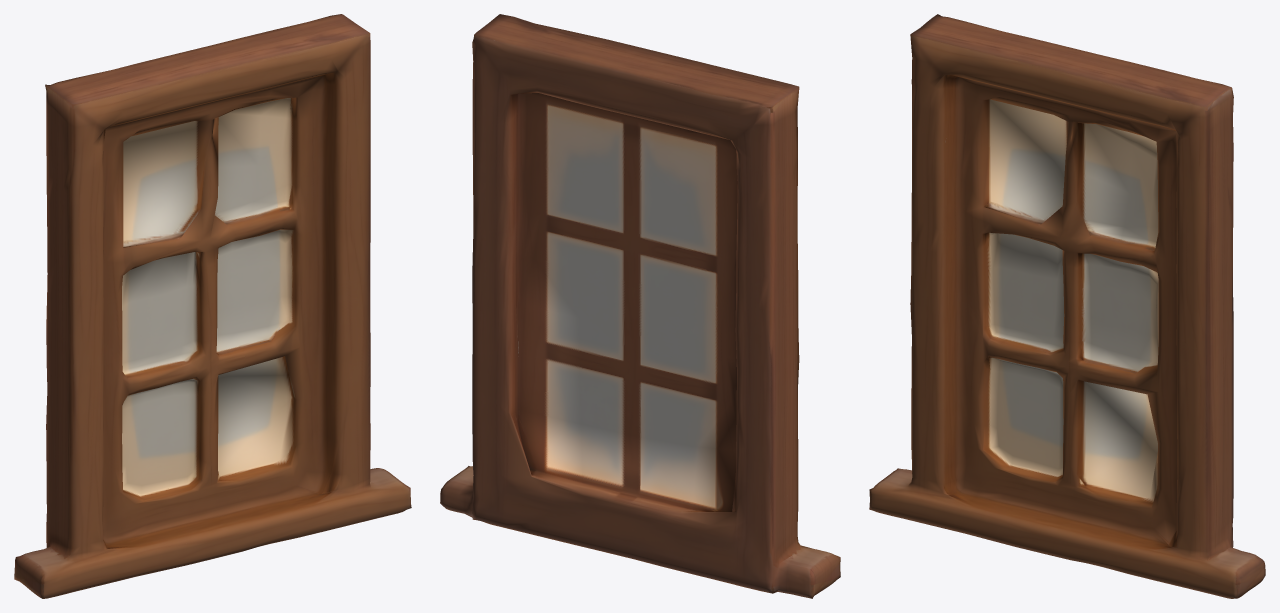
Rendered from Window.fbx.
The picture shows the model from 3 angles, left to right: view 1: azimuth 30°, elevation 25°; view 2: azimuth 150°, elevation 25°; view 3: azimuth 330°, elevation 25°; orthographic projection.
Parts seen in each view (by area): view 1: input; view 2: input; view 3: input.
Boxes of the visible parts, left/top/right/bottom form: input: left=14, top=14, right=411, bottom=598; input: left=440, top=14, right=840, bottom=598; input: left=869, top=14, right=1265, bottom=598.
Bounding box in the file's own units: 152 × 191 × 24.03.
1 material, 1 textured.
